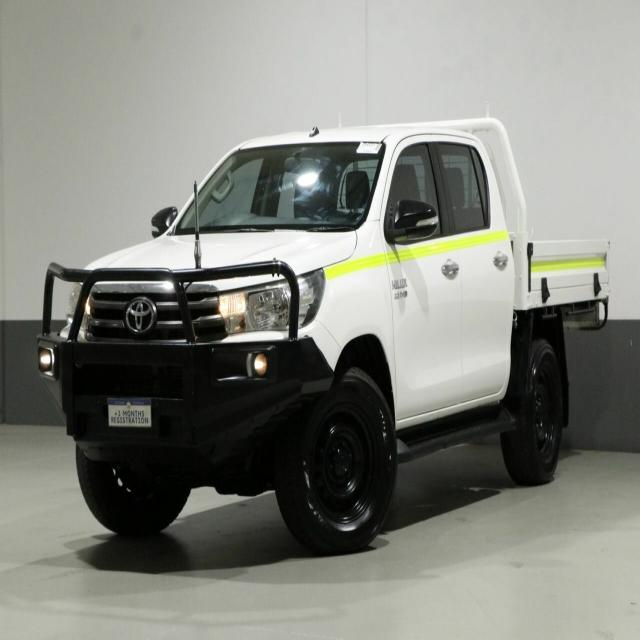light_vehicle: (22, 93, 616, 554)
